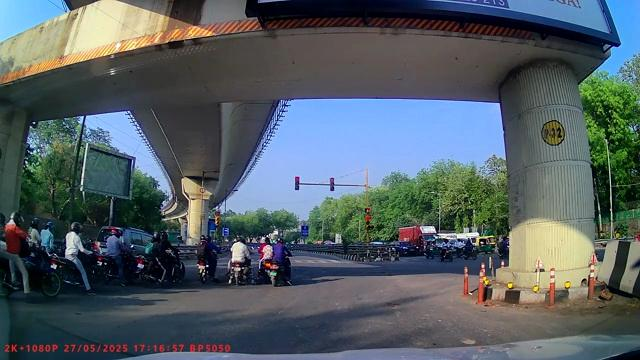motorcycle_with_helmet: (51, 219, 98, 293), (97, 225, 140, 286), (143, 229, 185, 287), (260, 235, 293, 287), (227, 235, 252, 286), (196, 233, 217, 284)
passenger_with_helmet: (0, 208, 61, 298)
